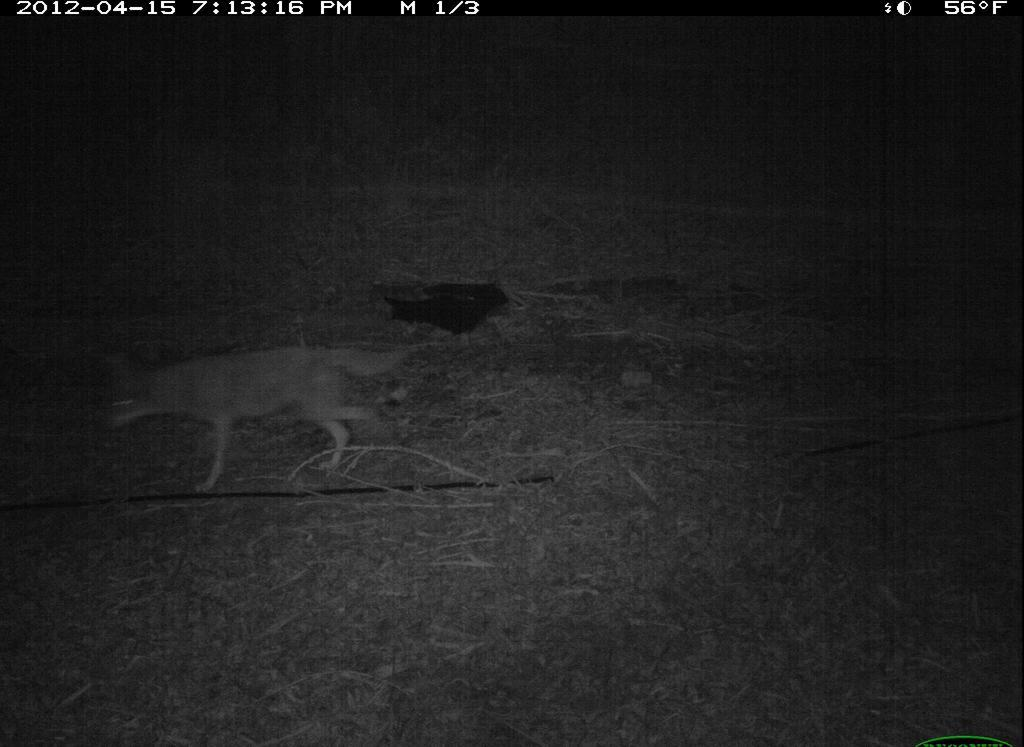coyote: (89, 322, 428, 509)
